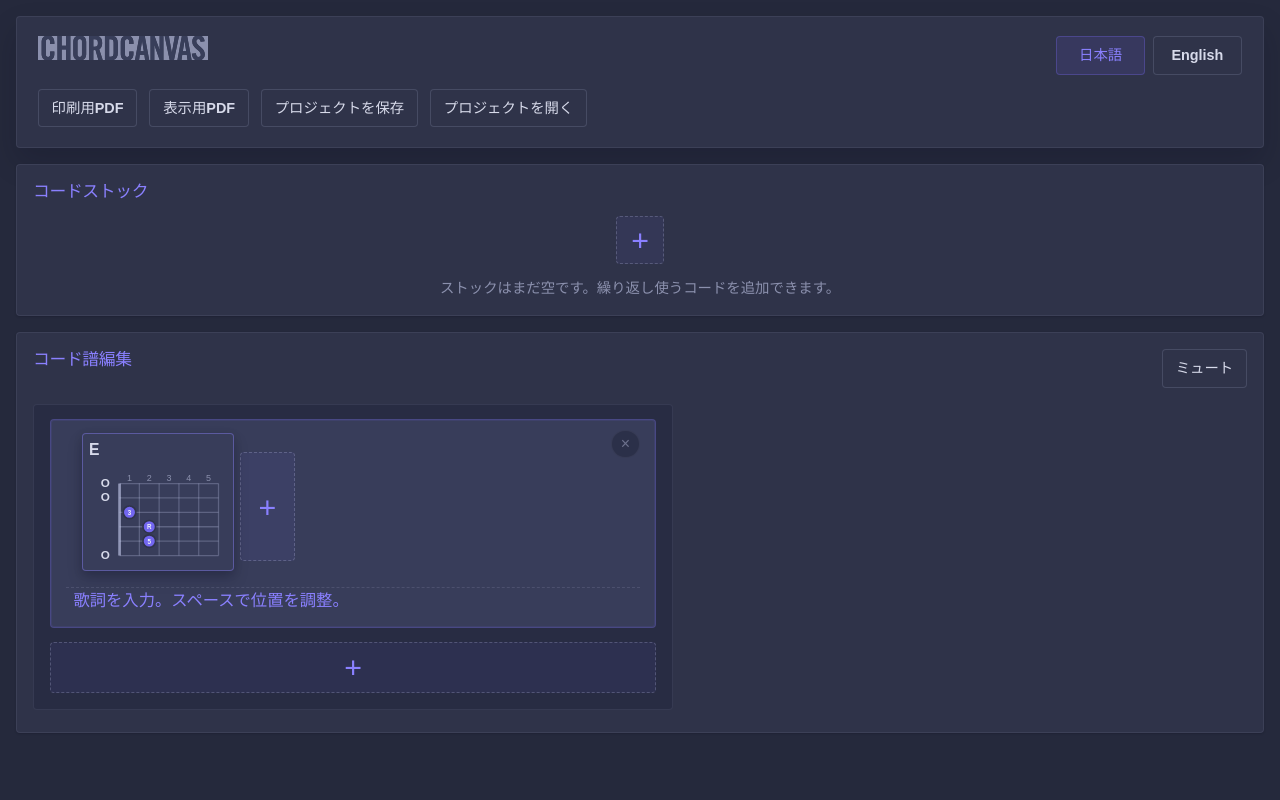
it: App › removes a stocked chord from the card close button
The width and height of the screenshot is (1280, 800).
Click the 1st button "+". click: (640, 240)
box: [616,216,664,264]
(page scrolled)
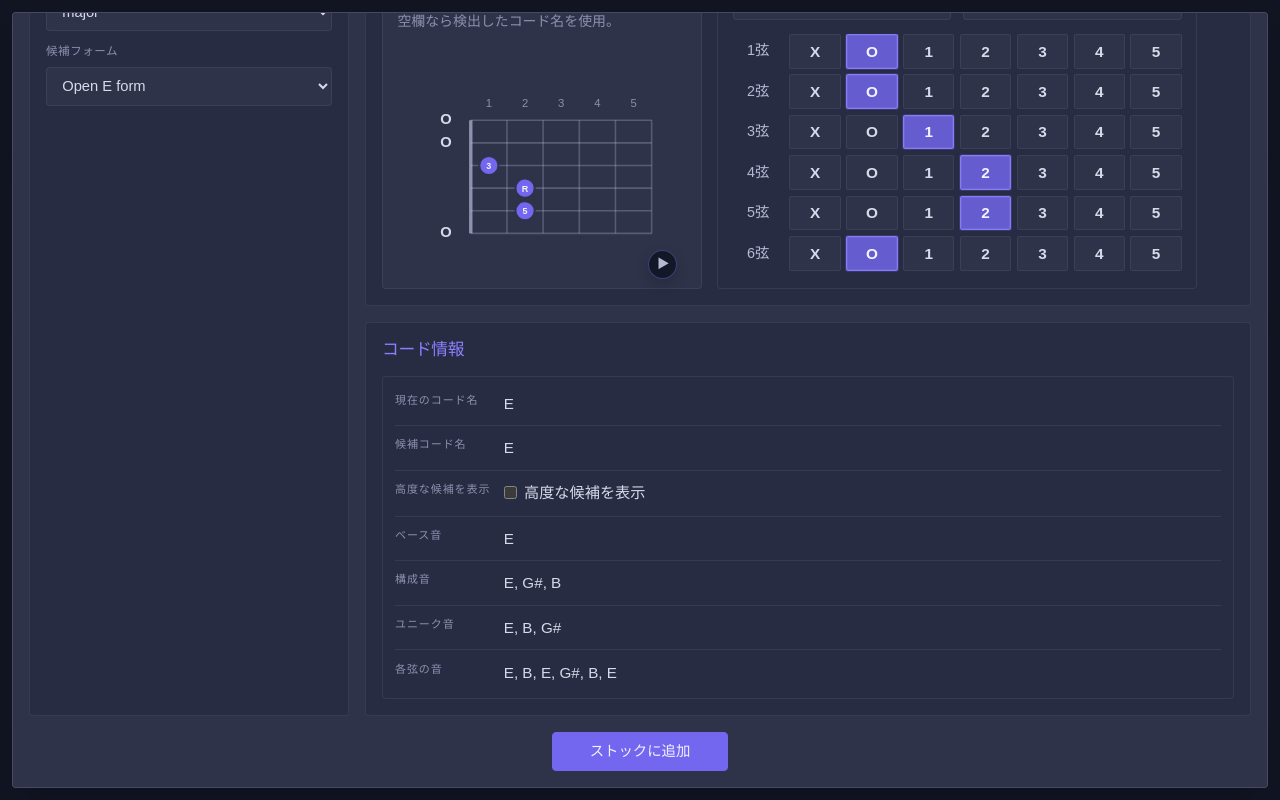
Click the button "ストックに追加". click: (640, 751)
box: [552,732,728,770]
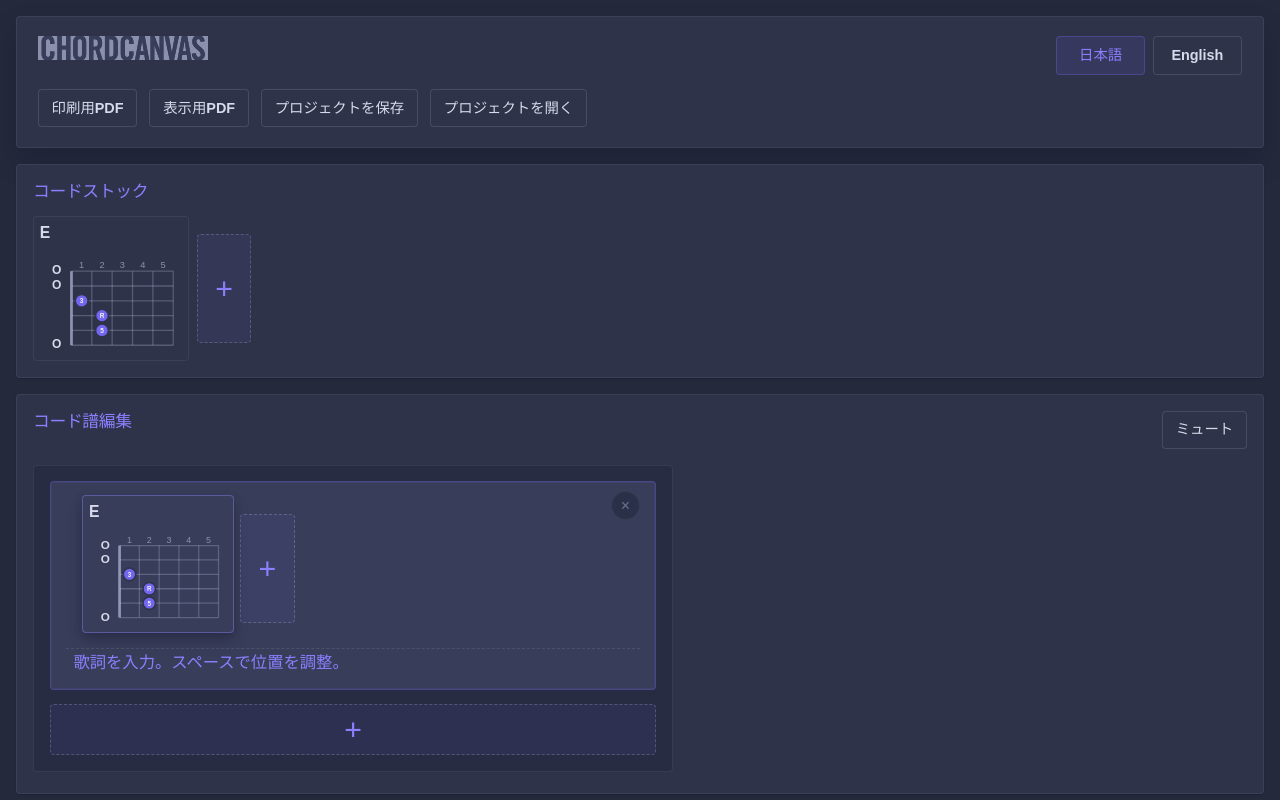
Click the button named "E". click: (111, 288)
box: [33,216,189,361]
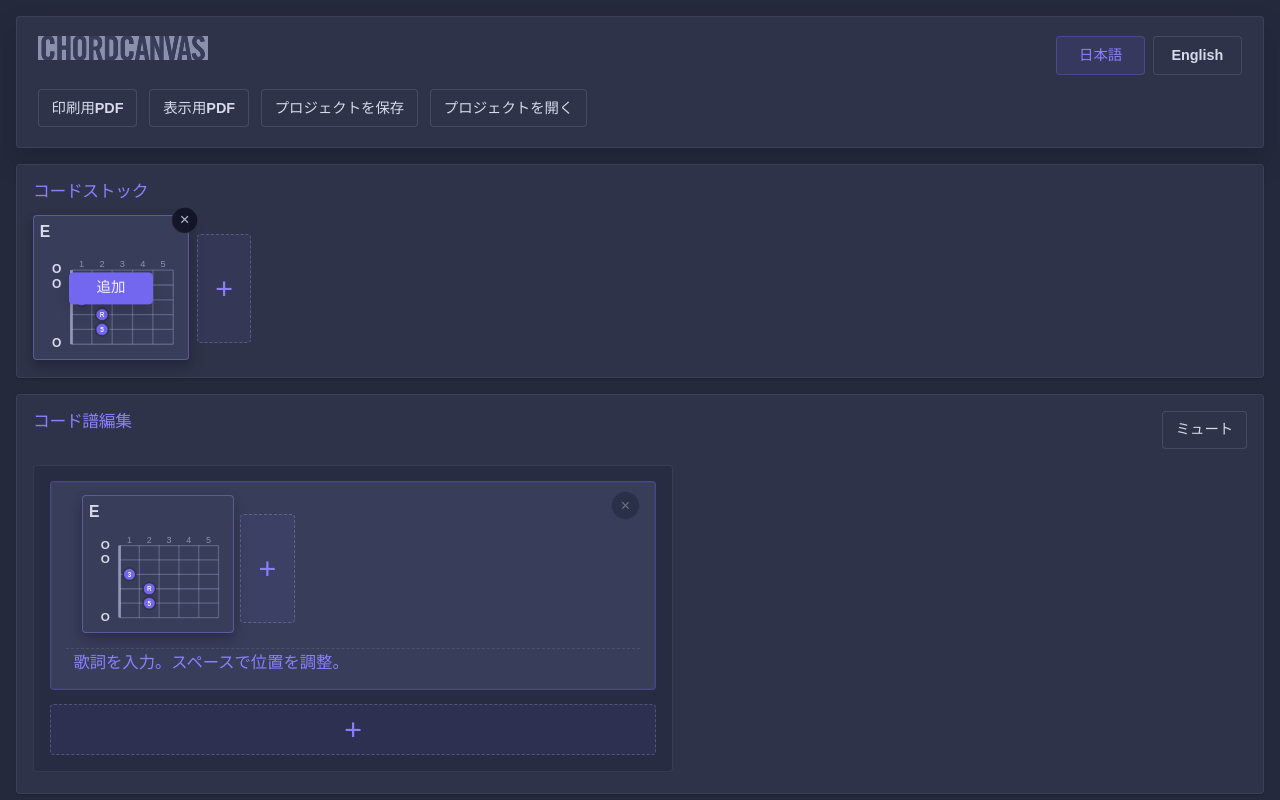
Click the button named "E をストックから削除". click: (185, 220)
box: [171,207,198,234]
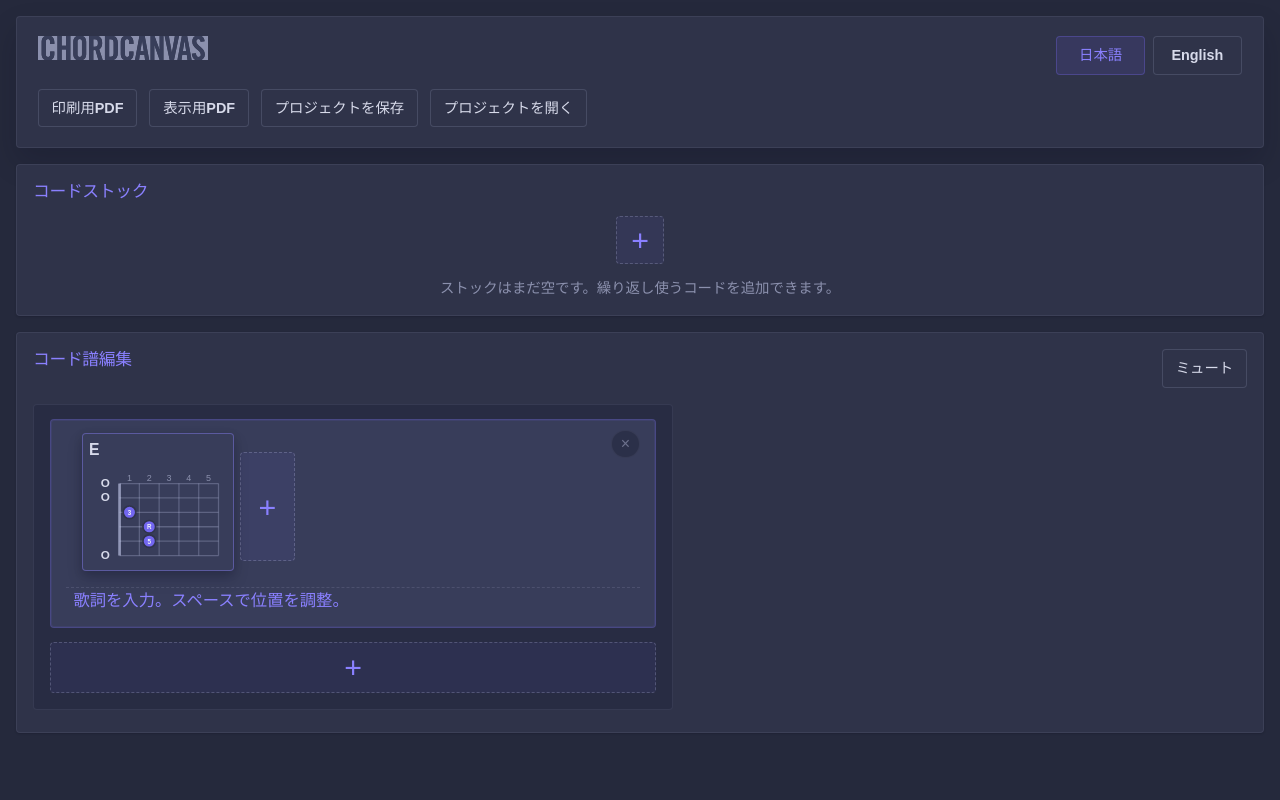
Check: the text "ストックはまだ空です。繰り返し使うコードを追加できます。" is shown, box [440,278,840,299]
